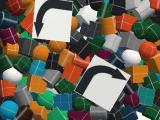Left: (32, 0, 73, 42)
Right: (74, 54, 131, 112)
